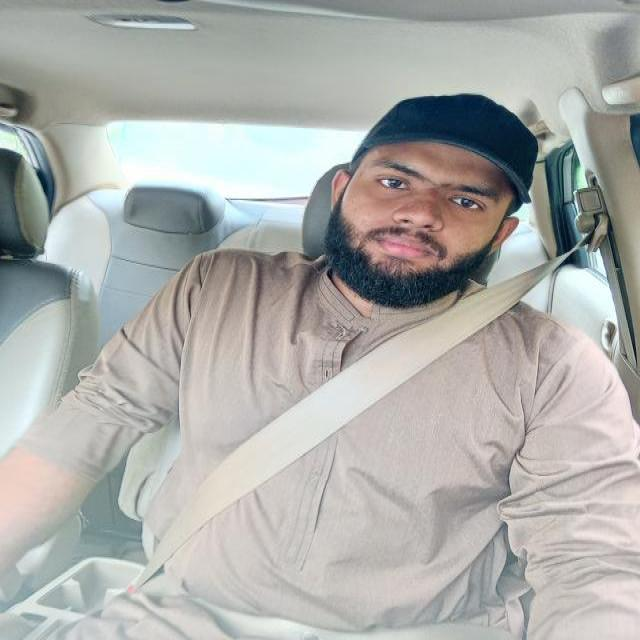seatbelt: (99, 228, 612, 617)
